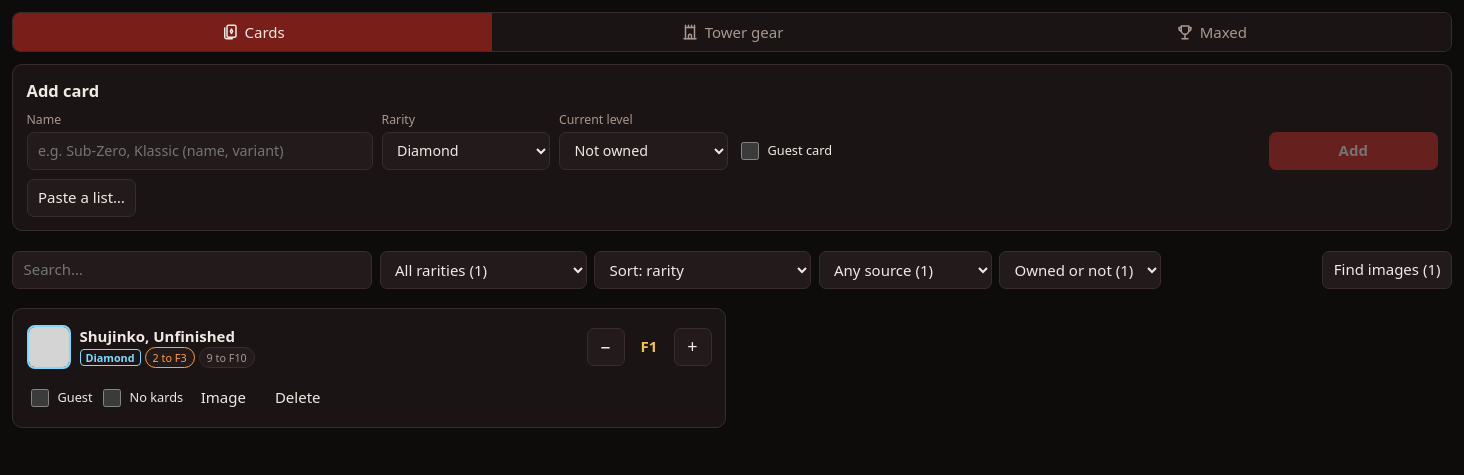
Test: Cards: Find images before the catalog has loaded › keeps a card the catalog lists without art waiting for the site
Click the button "Find images (1)" at x=1387, y=270, box x1=1322 y1=250 x2=1452 y2=288
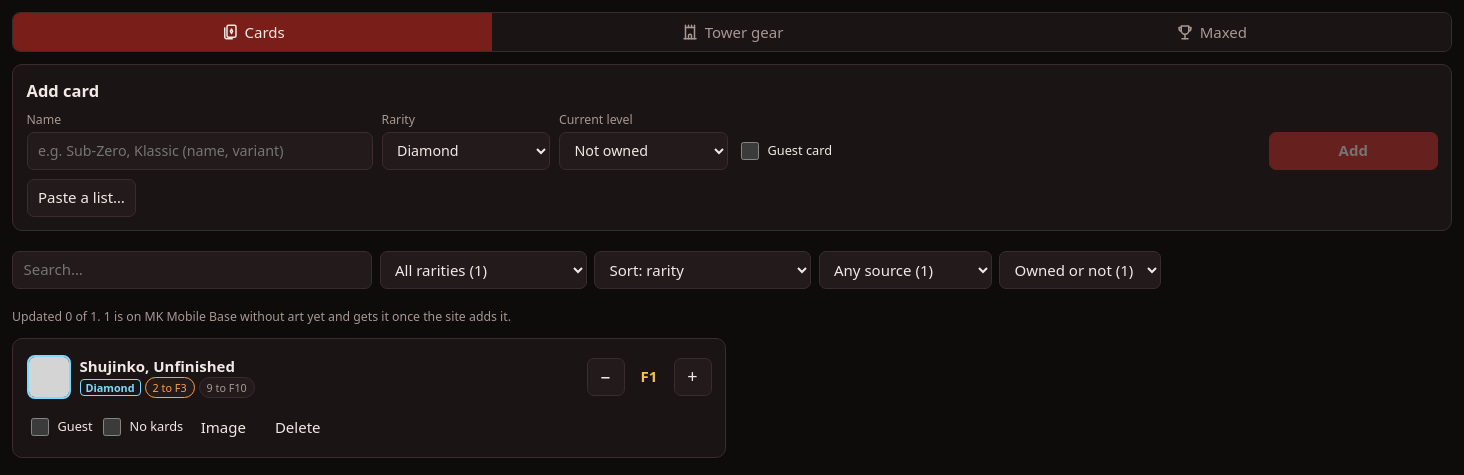
Now the text "Updated 0 of 1. 1 is on MK Mobile Base without art yet and gets it once the site adds it." is shown, box x1=12 y1=308 x2=511 y2=325
